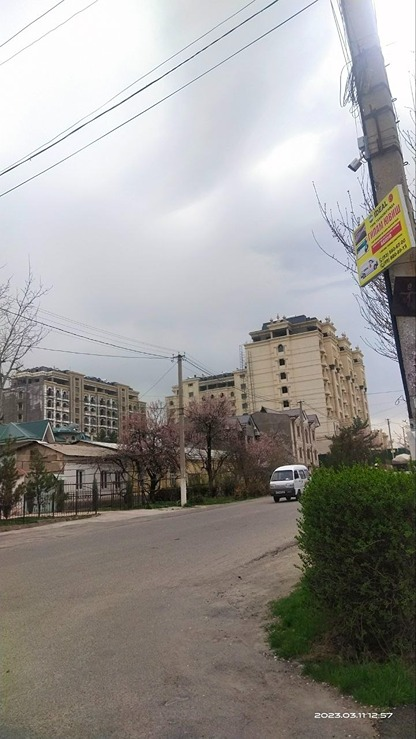car: (268, 463, 313, 500)
tree: (105, 404, 181, 492), (182, 392, 233, 501), (224, 432, 282, 483), (18, 452, 58, 511), (1, 433, 23, 518)
